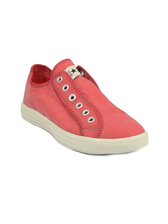shoes: (20, 59, 148, 156)
